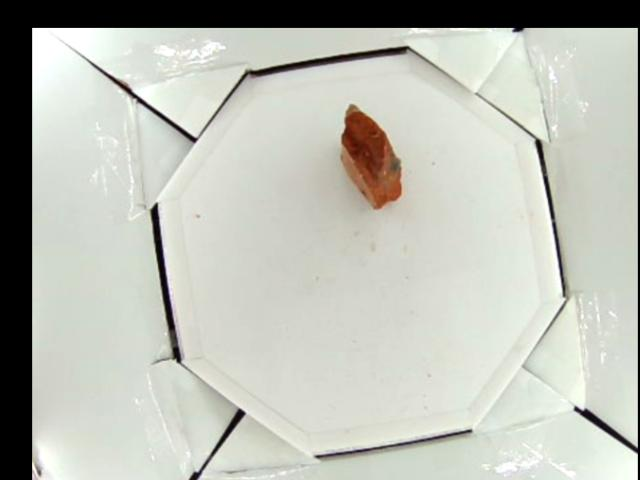Brisk: (342, 104, 401, 208)
